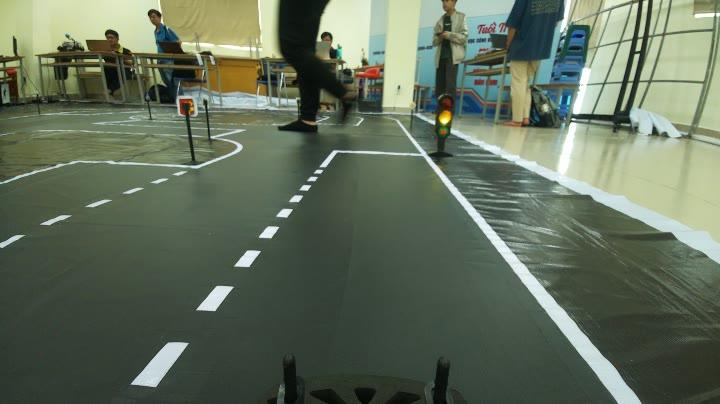trafficlight: (414, 90, 468, 164)
